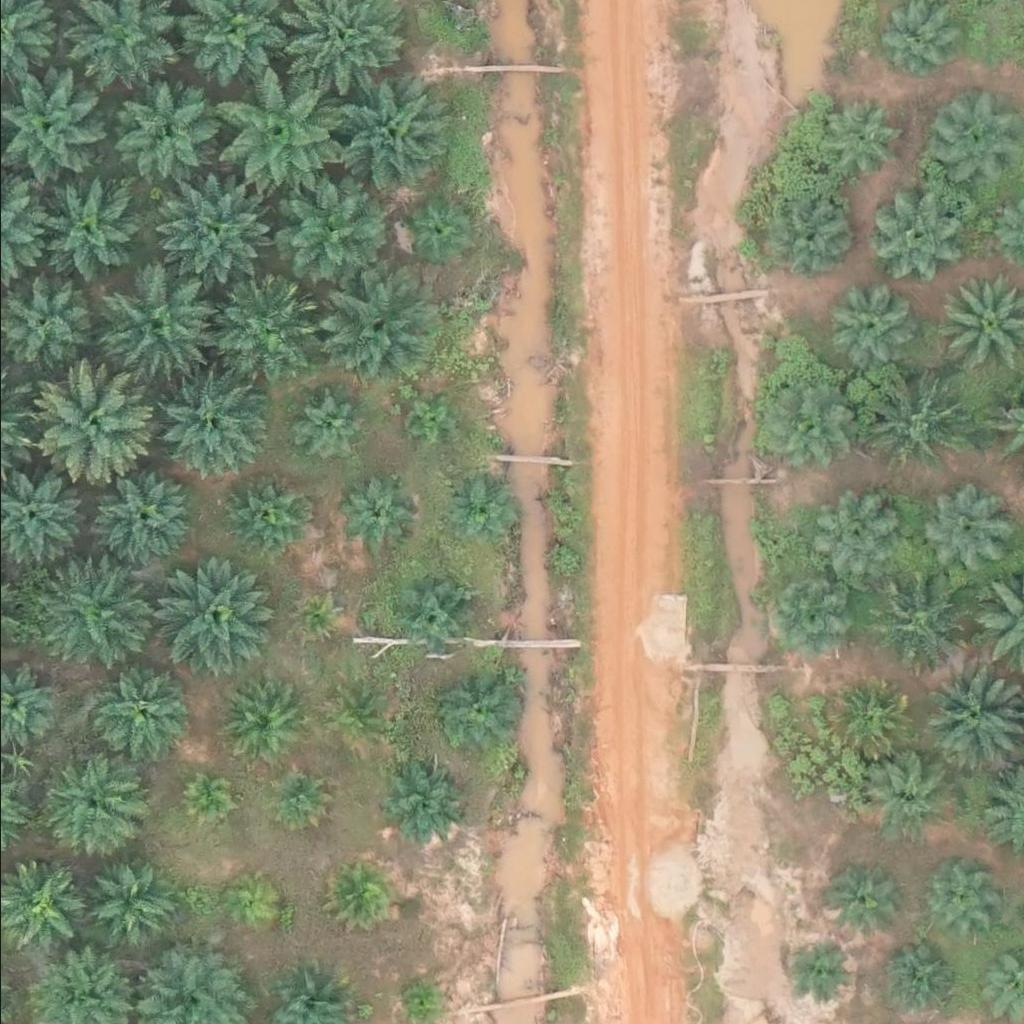Kelapa_Sawit: (160, 561, 274, 674), (35, 362, 149, 475), (155, 173, 269, 286), (201, 275, 314, 388), (318, 267, 431, 380), (273, 173, 386, 286), (95, 266, 209, 378), (223, 77, 337, 189), (27, 561, 140, 673), (153, 371, 266, 483), (34, 176, 147, 288), (333, 80, 446, 192), (849, 362, 962, 474), (92, 469, 193, 569), (868, 569, 969, 669), (918, 86, 1019, 186), (39, 750, 139, 850), (91, 661, 191, 761), (121, 84, 221, 184), (749, 380, 849, 480), (869, 184, 969, 284), (85, 859, 173, 947), (389, 567, 477, 655), (222, 473, 310, 561), (823, 669, 911, 757), (917, 481, 1005, 569), (773, 195, 861, 283), (809, 492, 898, 579), (433, 668, 521, 755), (218, 677, 306, 764), (856, 754, 944, 841), (764, 570, 852, 657), (820, 287, 908, 374), (819, 95, 907, 182), (377, 764, 453, 839), (335, 473, 411, 548), (883, 945, 959, 1020), (917, 863, 992, 938), (817, 861, 892, 936), (451, 475, 514, 538), (403, 197, 466, 260), (330, 864, 393, 927), (788, 934, 851, 997), (296, 396, 359, 458), (324, 687, 387, 749), (223, 874, 274, 924), (181, 776, 231, 826), (273, 771, 323, 821), (404, 398, 454, 448), (401, 980, 439, 1017), (301, 595, 338, 632)
